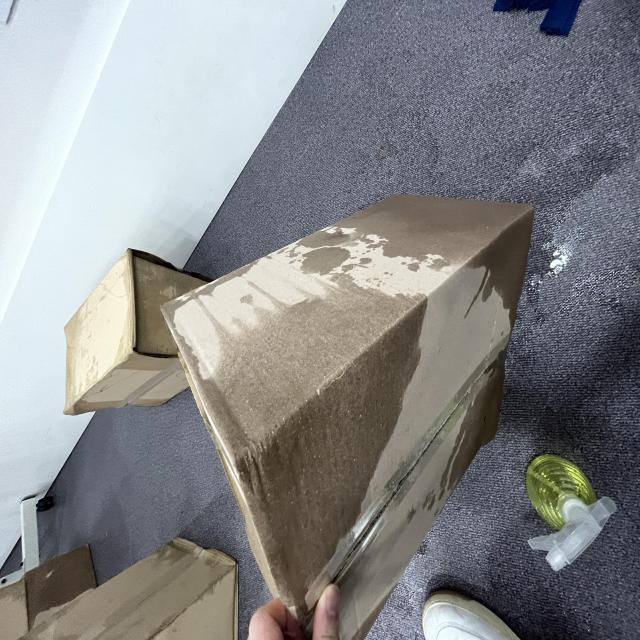wet: (178, 192, 517, 614)
